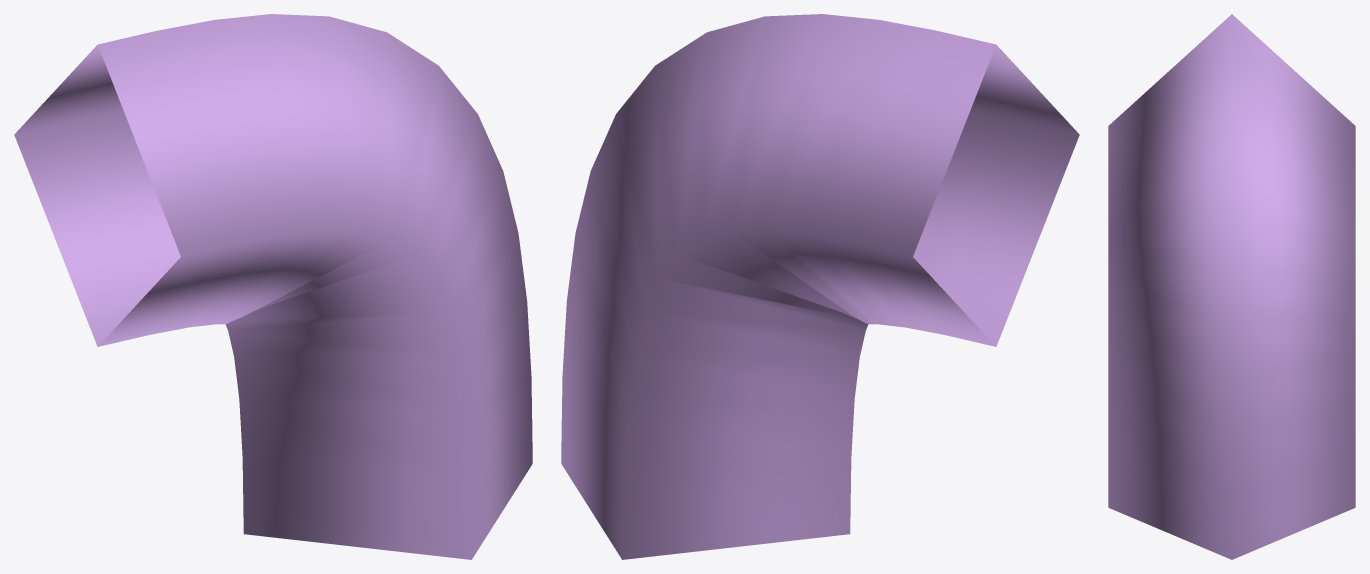
File: G_Background_Pipe_A.fbx
3 views of the same model, side by side, from view 1: azimuth 30°, elevation 25°; view 2: azimuth 150°, elevation 25°; view 3: azimuth 270°, elevation 25° (orthographic). The views are drawn at different scales.
Visible parts, largest first — view 1: G_Background_Pipe_A; view 2: G_Background_Pipe_A; view 3: G_Background_Pipe_A.
Part boxes in pixels (x1,y1,x2,y2): G_Background_Pipe_A: [14, 14, 532, 559]; G_Background_Pipe_A: [561, 14, 1079, 559]; G_Background_Pipe_A: [1108, 14, 1355, 559].
Size of the model in its own units: 129 by 149 by 86.
